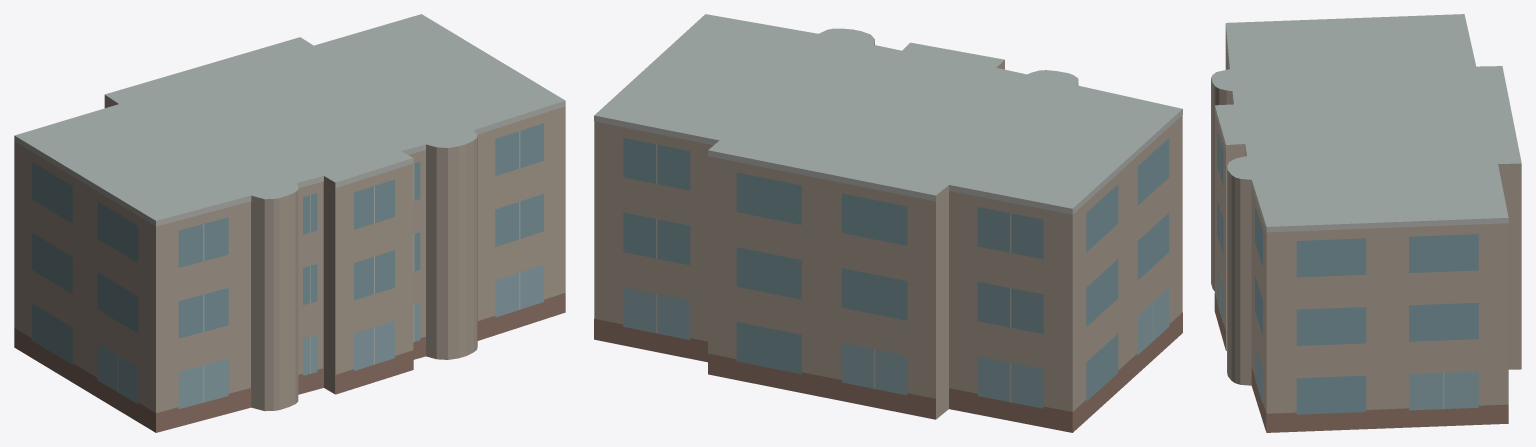
File: survey-upis-32468871.glb
3 views of the same model, side by side, from view 1: azimuth 30°, elevation 25°; view 2: azimuth 150°, elevation 25°; view 3: azimuth 270°, elevation 25° (orthographic). The views are drawn at different scales.
Parts seen in each view (by area): view 1: survey-upis-32468871.tmp; view 2: survey-upis-32468871.tmp; view 3: survey-upis-32468871.tmp.
Part boxes in pixels (x1,y1,x2,y2): survey-upis-32468871.tmp: (14, 14, 565, 432); survey-upis-32468871.tmp: (594, 14, 1182, 432); survey-upis-32468871.tmp: (1211, 14, 1521, 432).
Size of the model in its own units: 20.3 by 9.15 by 12.52.
